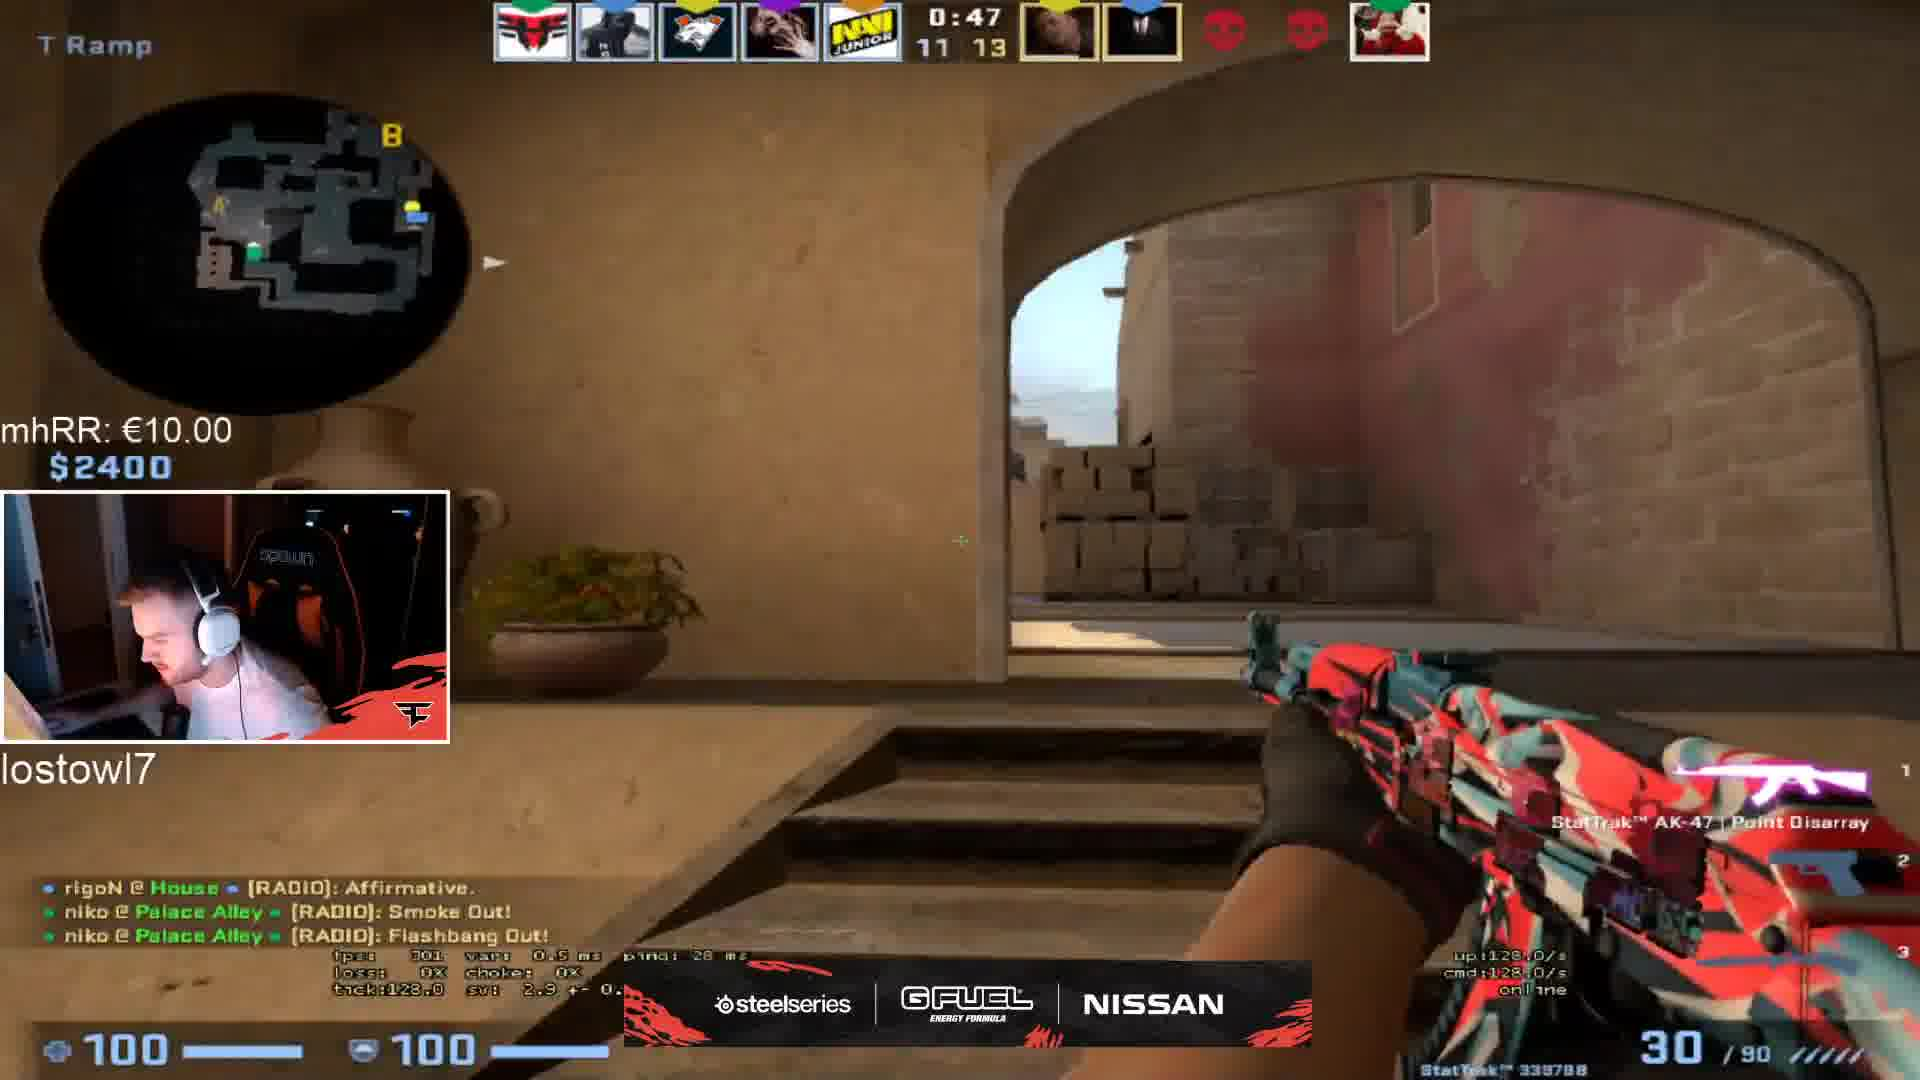enemy: (1007, 448, 1026, 479)
